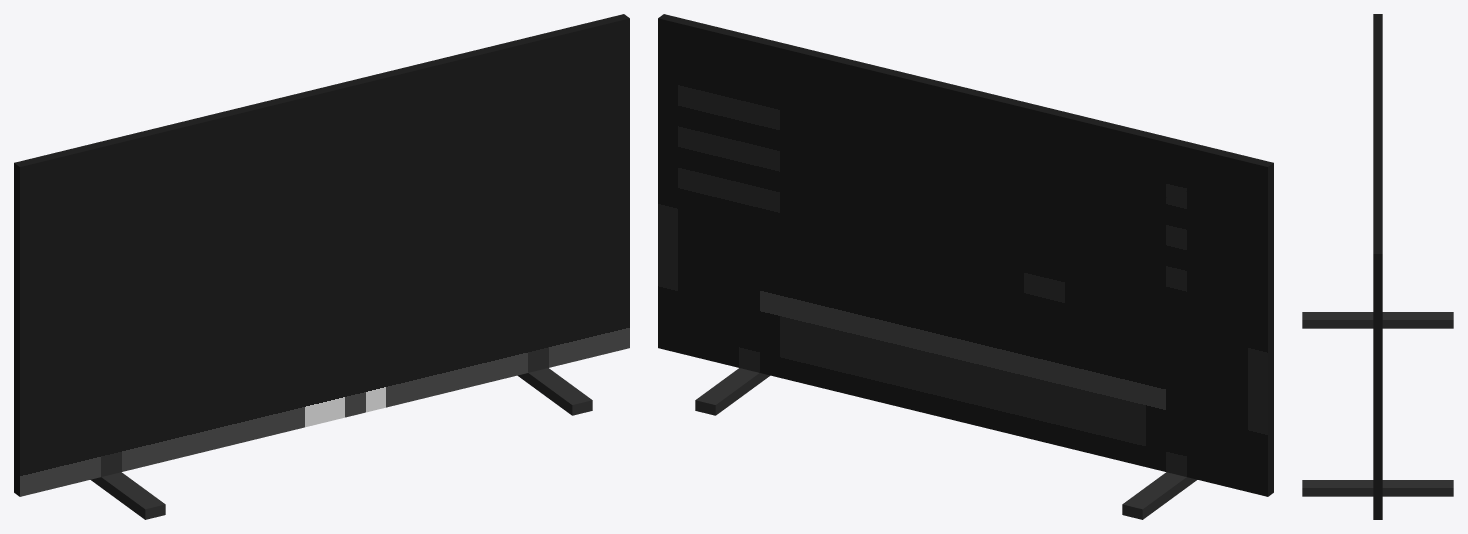
The picture shows the model from 3 angles, left to right: view 1: azimuth 30°, elevation 25°; view 2: azimuth 150°, elevation 25°; view 3: azimuth 270°, elevation 25°; orthographic projection. The views are drawn at different scales.
Parts seen in each view (by area): view 1: cube (×3); view 2: cube (×3); view 3: cube (×3).
Part boxes in pixels (x1,y1,x2,y2): cube (×3): (14, 14, 629, 519); cube (×3): (658, 14, 1273, 519); cube (×3): (1302, 14, 1453, 519).
Size of the model in its own units: 18.75 by 10 by 5.
Materials: 2 (2 with a texture image).
